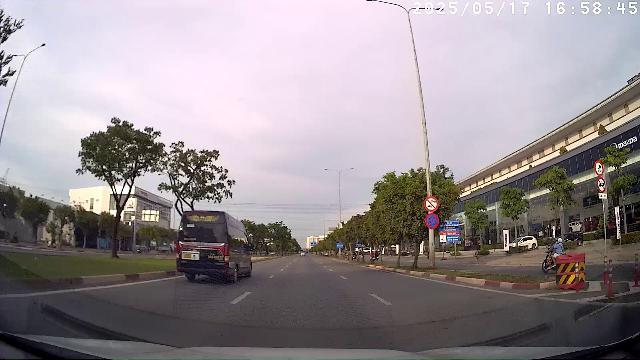127-toc-do-toi-da-60: (594, 160, 604, 176)
130-cam-dung-va-do-xe: (425, 213, 439, 229)
